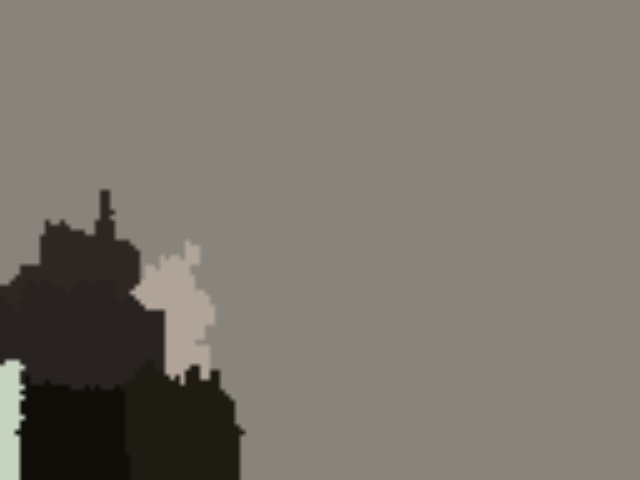eight: (112, 168, 157, 233)
